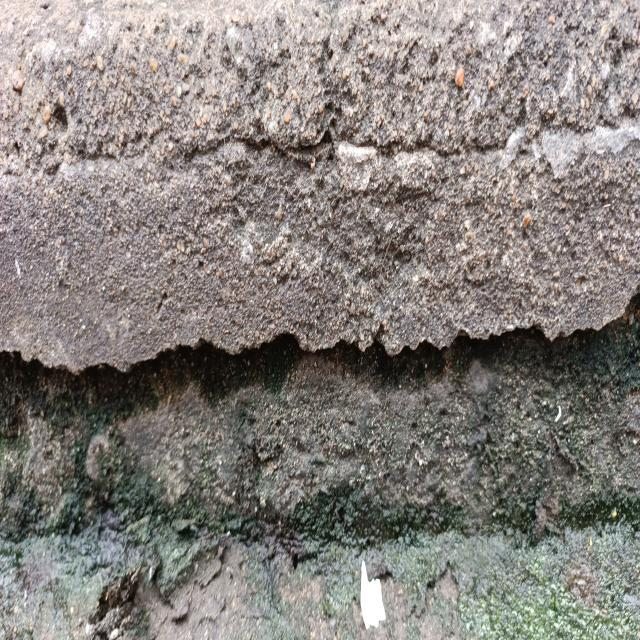horizontal crack: (0, 292, 639, 437)
